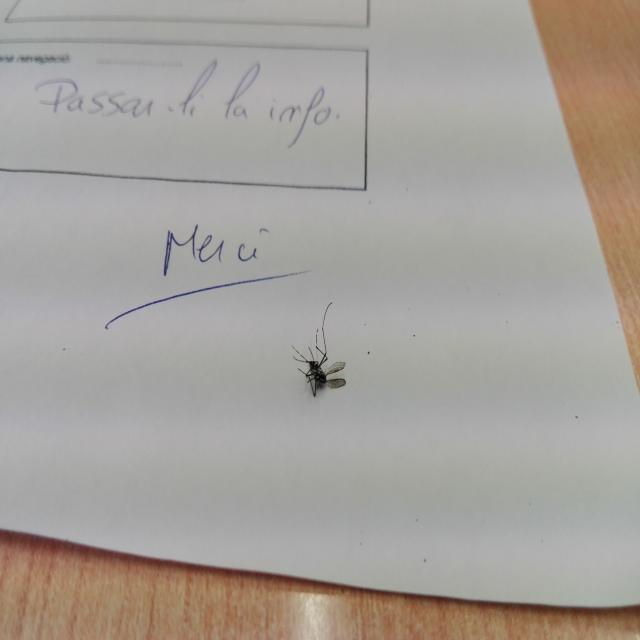albopictus: (288, 296, 348, 403)
